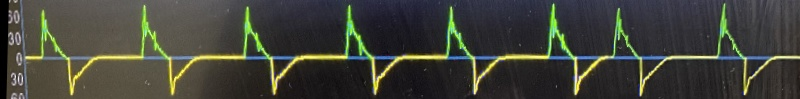hydrop_flow: (25, 1, 793, 99)
